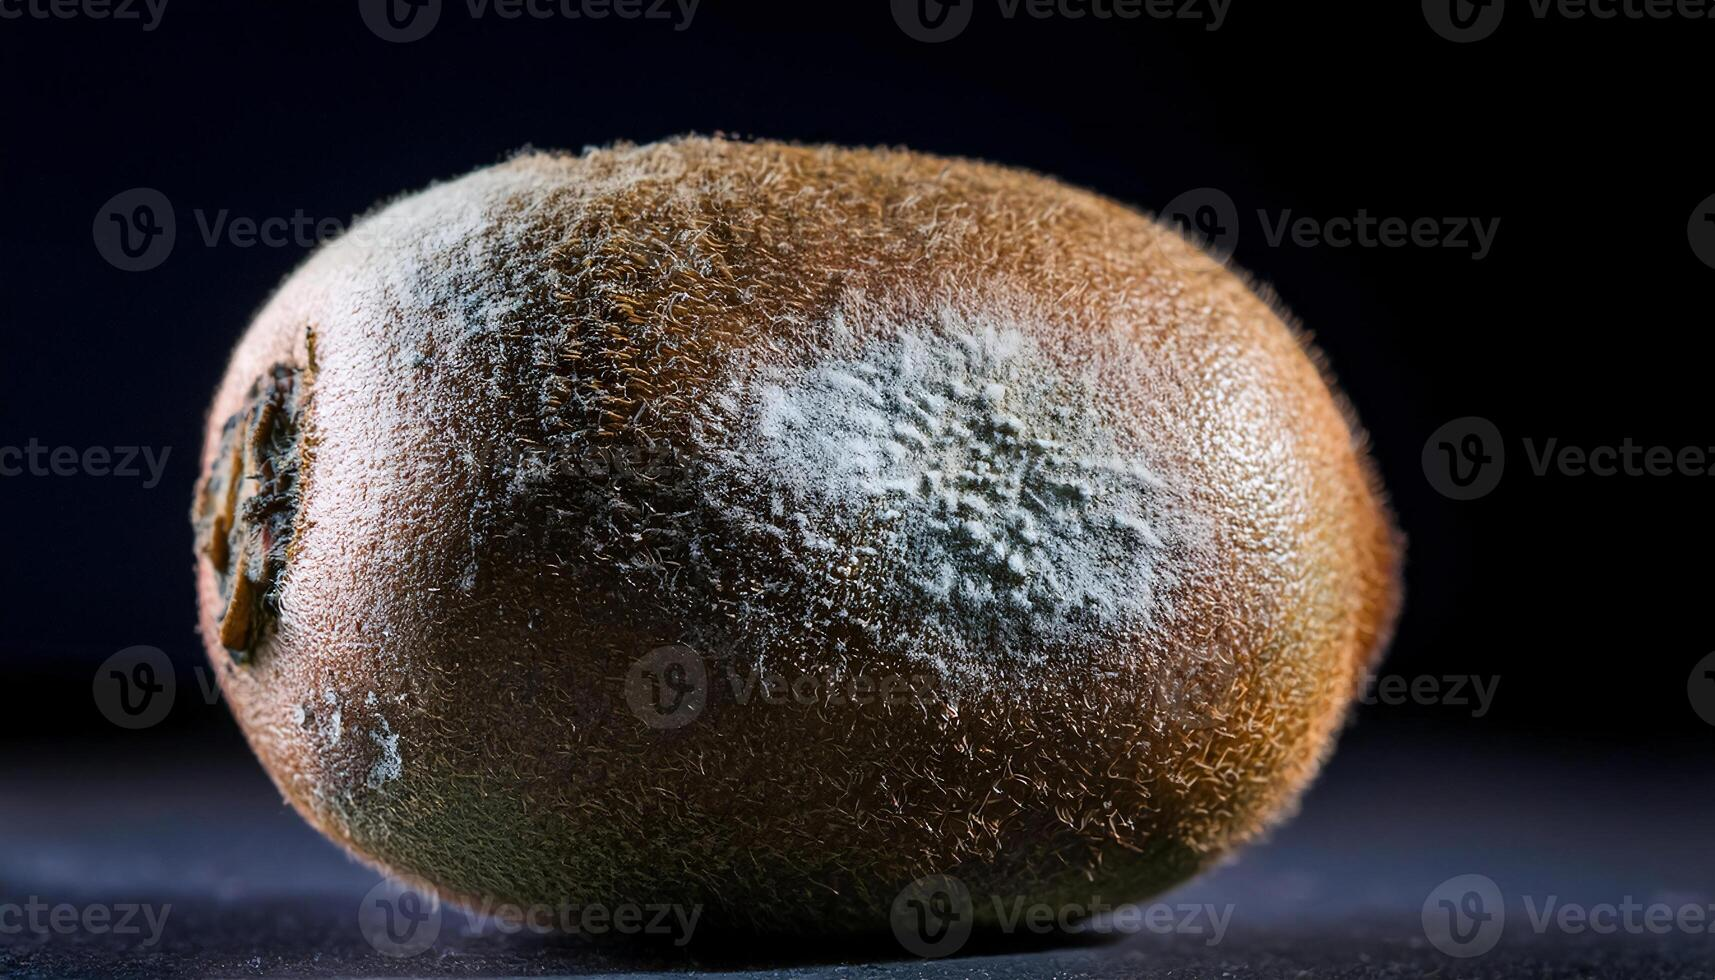kiwi rotten: (194, 91, 1413, 928)
